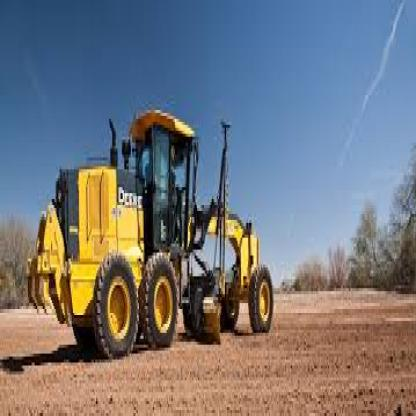bull_dozer/loader/grader: (30, 83, 292, 378)
